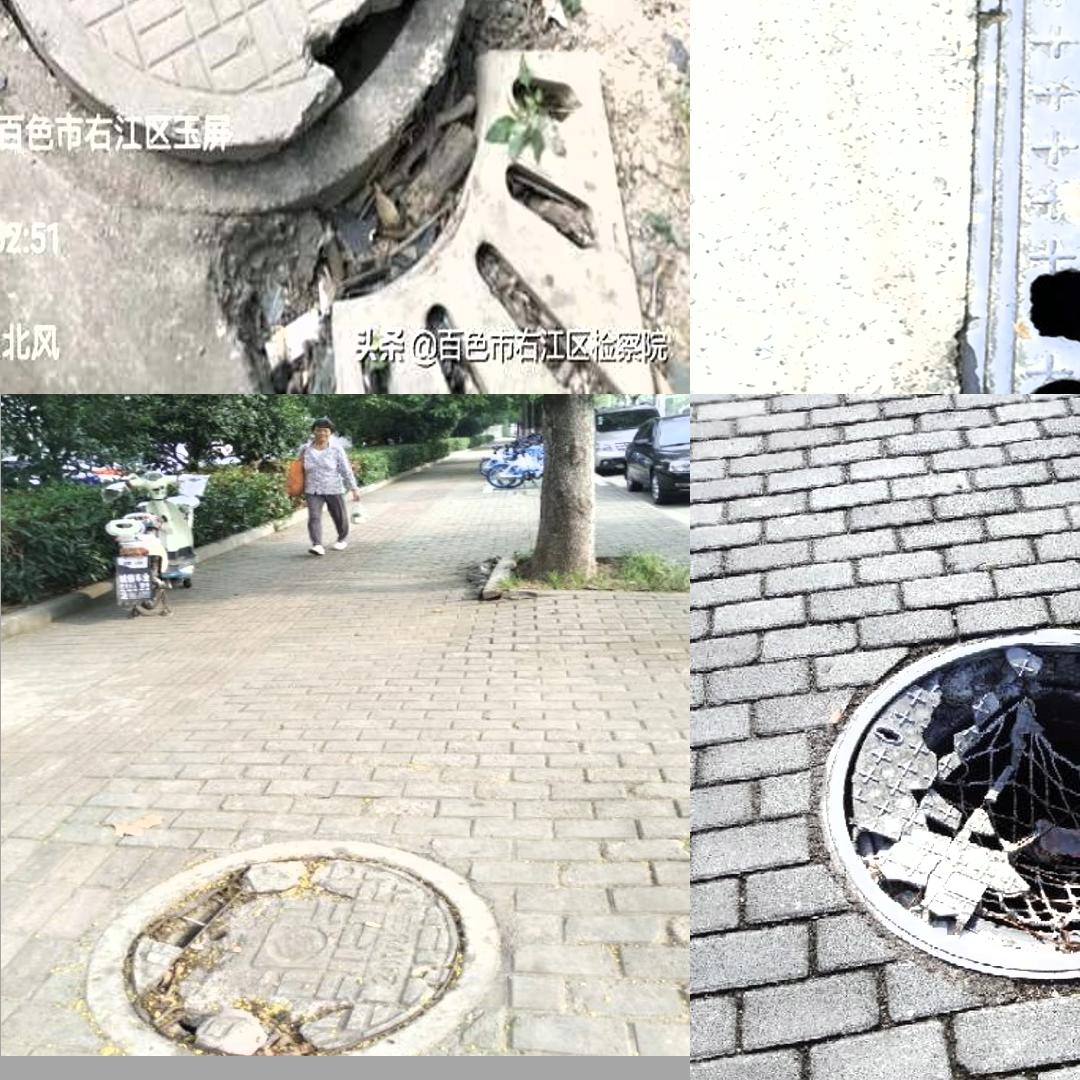broke: (0, 0, 524, 242), (793, 601, 1080, 1006), (84, 838, 503, 1056), (961, 0, 1080, 392)
